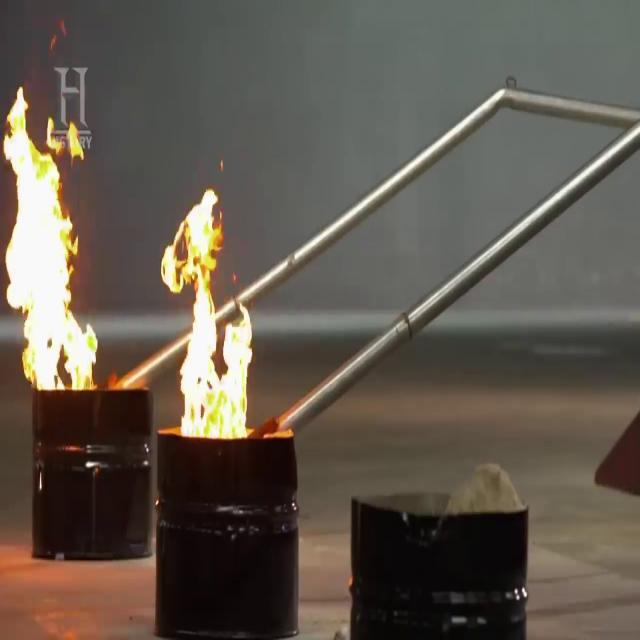Fire: (0, 1, 84, 403), (152, 171, 249, 447)
